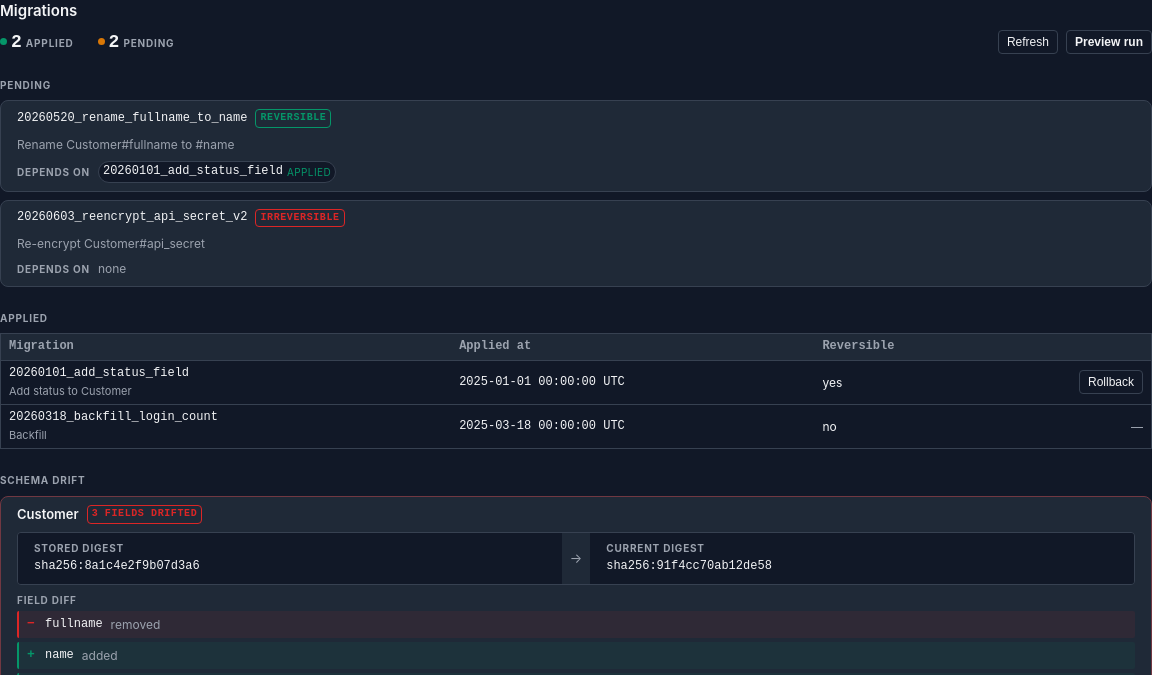
it: rollback is a two-step confirm over a synchronous POST › confirms, posts rollback?id=, and renders the result
Expected: the table with test id "migrations-applied-table" is shown, [0, 333, 1151, 449]
Click the button with test id "migrations-rollback-20260101_add_status_field" at {"x": 1111, "y": 382}, box [1079, 370, 1143, 394]
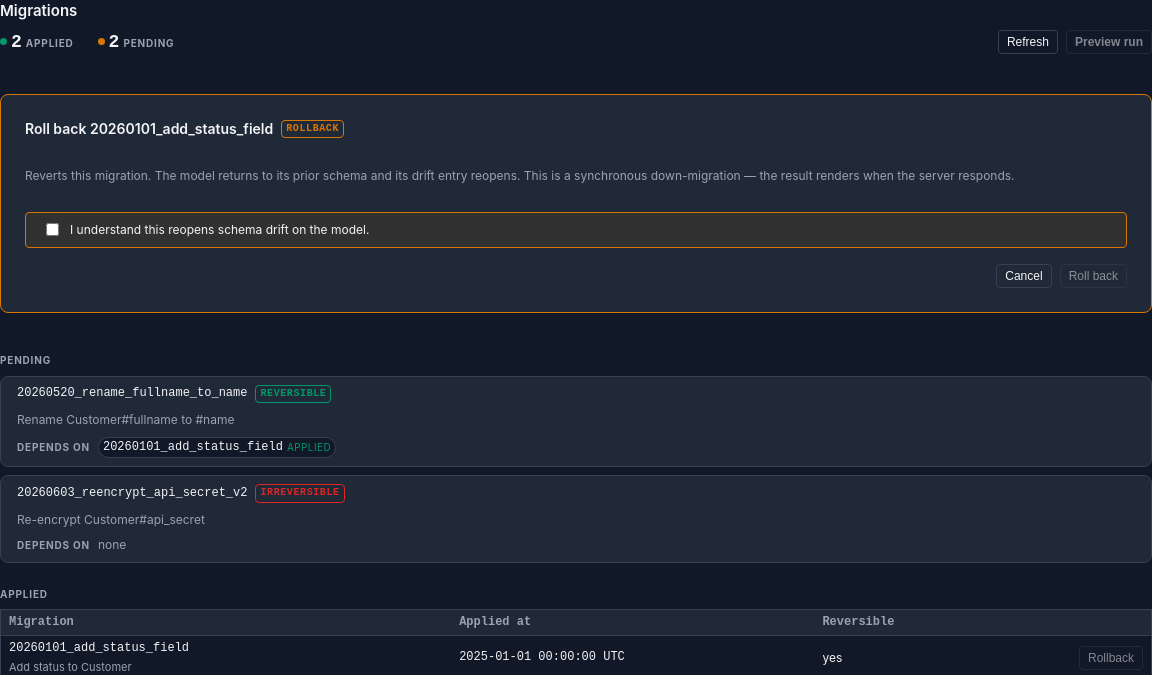
Now the button with test id "migrations-rollback-apply" is disabled, box [1060, 264, 1127, 288]
Click the checkbox with test id "migrations-rollback-ack-checkbox" at {"x": 52, "y": 230}, box [46, 223, 59, 236]
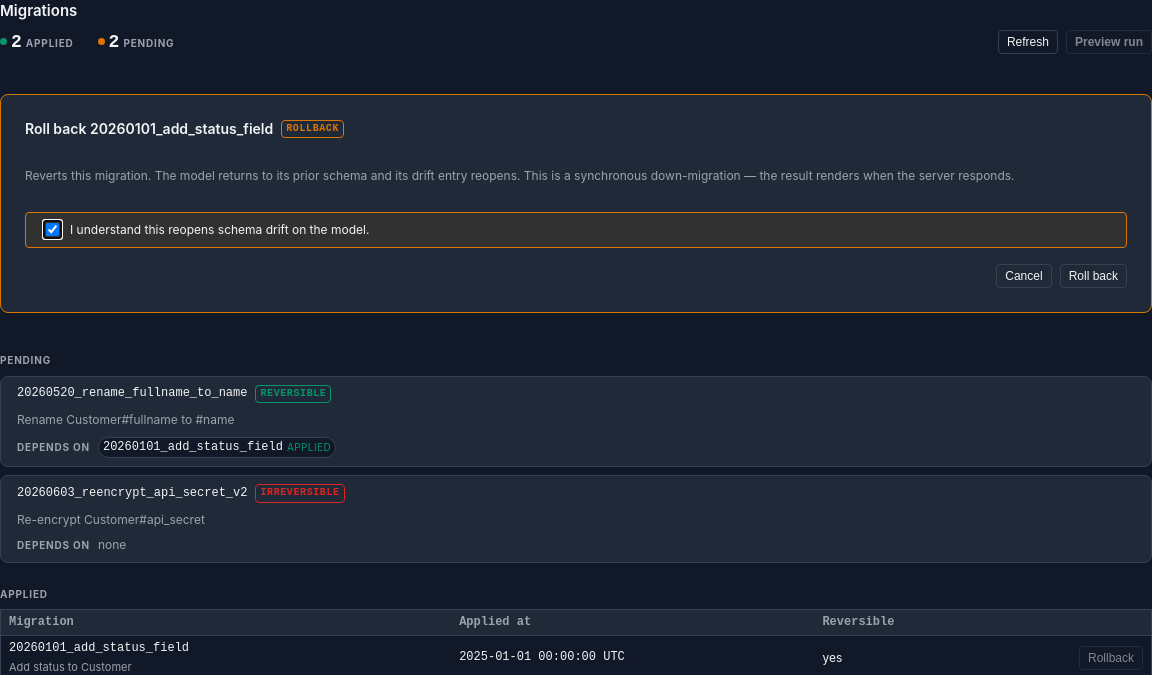
Click the button with test id "migrations-rollback-apply" at {"x": 1093, "y": 276}, box [1060, 264, 1127, 288]
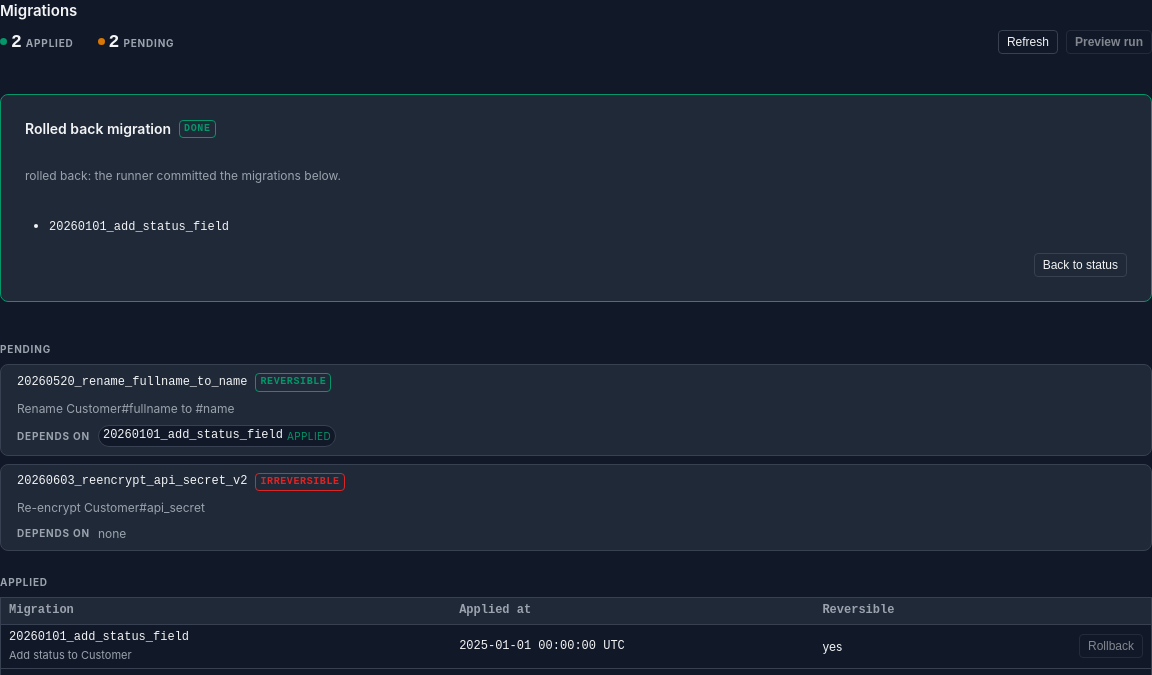
Now the element with test id "migrations-done" is shown, box [0, 94, 1151, 302]
